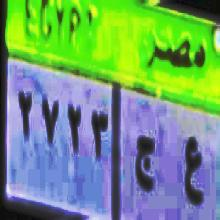2: (64, 99, 83, 164), (16, 84, 35, 146)
3: (88, 109, 112, 166)
7: (41, 92, 60, 150)
ain: (182, 130, 207, 210)
jeem: (134, 130, 156, 200)
